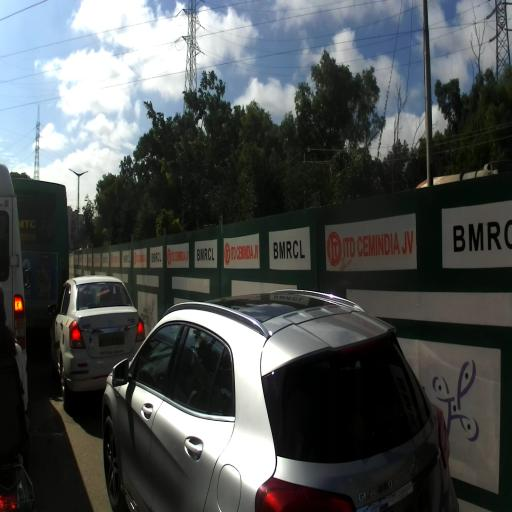street_light_0: (68, 168, 79, 179), (78, 171, 88, 179), (68, 204, 71, 208)
